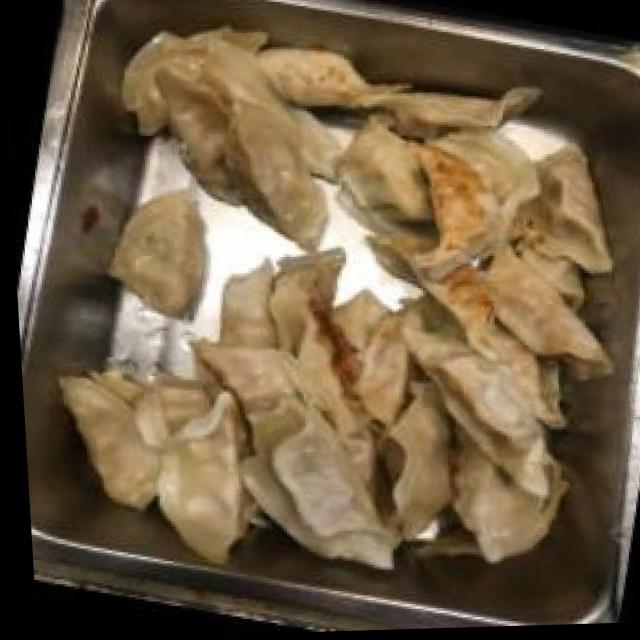fried_dumplings: (44, 13, 640, 574)
